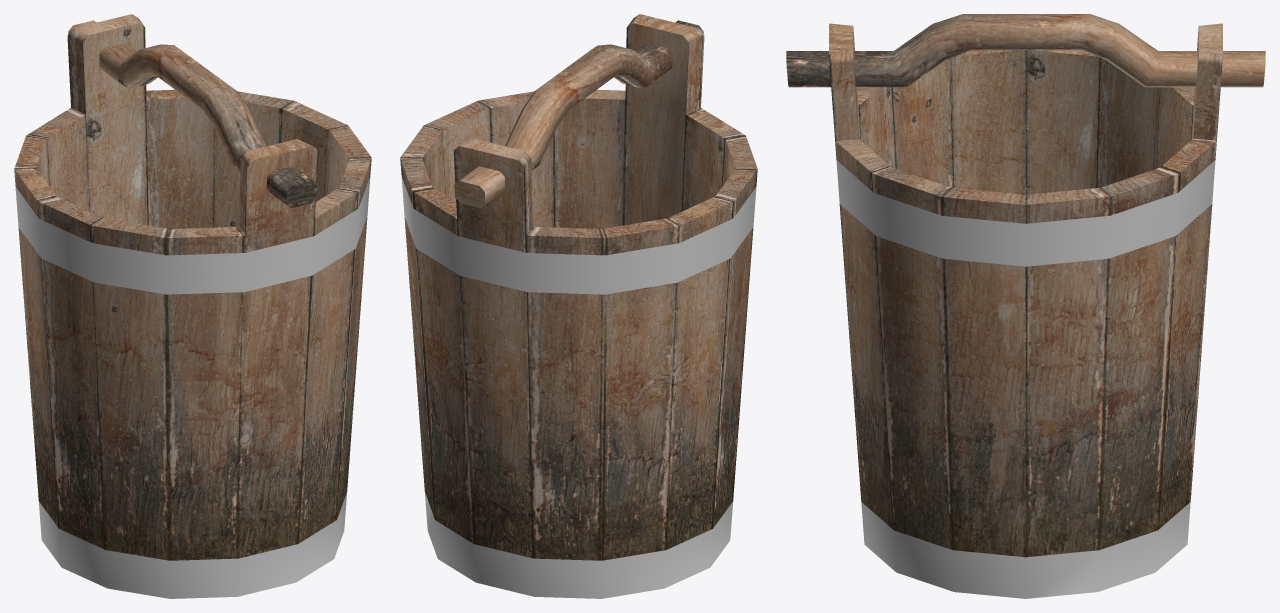
Rendered from Bucket2.fbx.
3 views of the same model, side by side, from view 1: azimuth 30°, elevation 25°; view 2: azimuth 150°, elevation 25°; view 3: azimuth 270°, elevation 25° (orthographic). The views are drawn at different scales.
Parts seen in each view (by area): view 1: polySurface40; view 2: polySurface40; view 3: polySurface40.
Boxes of the visible parts, x1,y1,x2,y2 form: polySurface40: (14, 14, 371, 598); polySurface40: (400, 14, 757, 598); polySurface40: (786, 14, 1265, 598).
Size of the model in its own units: 0.4858 by 0.6971 by 0.5943.
